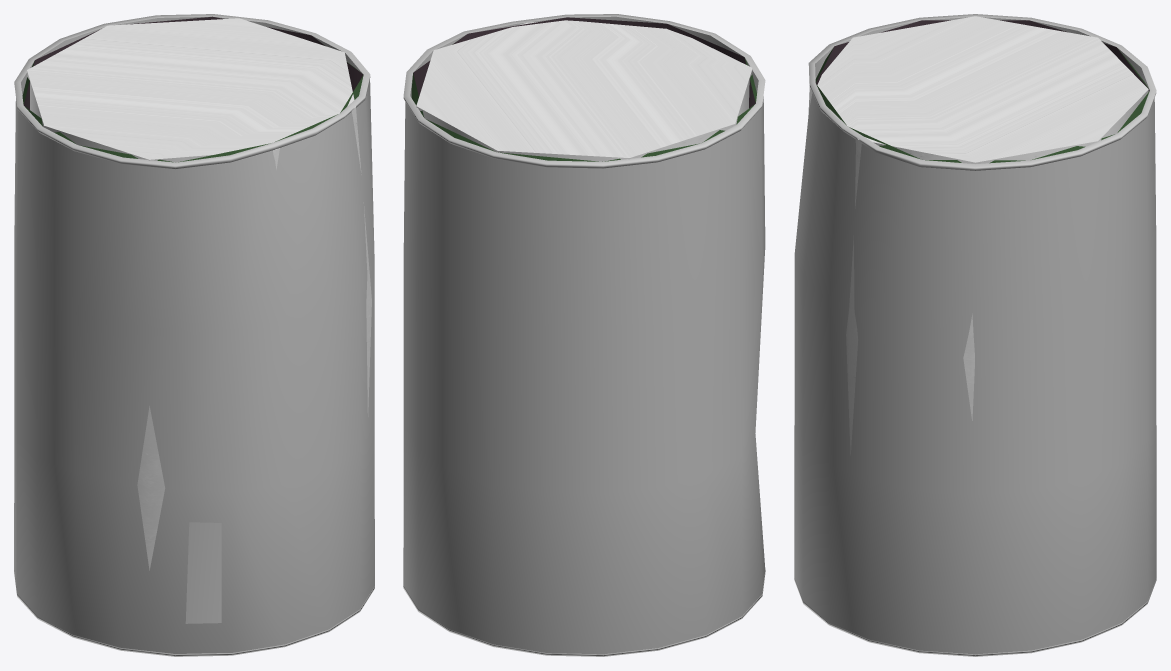
The model's file is si_drum_old_a.DAE.
3 renders of one model, left to right at view 1: azimuth 30°, elevation 25°; view 2: azimuth 150°, elevation 25°; view 3: azimuth 270°, elevation 25°, orthographic.
Parts seen in each view (by area): view 1: si_drum_old_a60, Colmesh-1, si_drum_old_a110, si_drum_old_a30; view 2: si_drum_old_a60, Colmesh-1, si_drum_old_a110, si_drum_old_a30; view 3: si_drum_old_a60, Colmesh-1, si_drum_old_a110, si_drum_old_a30.
Part boxes in pixels (x1,y1,x2,y2): si_drum_old_a60: (14,80,374,653); Colmesh-1: (27,18,371,570); si_drum_old_a110: (14,14,374,656); si_drum_old_a30: (22,16,363,162); si_drum_old_a60: (403,96,765,654); Colmesh-1: (416,20,752,161); si_drum_old_a110: (403,14,765,656); si_drum_old_a30: (411,17,756,161); si_drum_old_a60: (794,87,1156,654); Colmesh-1: (809,16,1148,455); si_drum_old_a110: (794,14,1156,656); si_drum_old_a30: (815,20,1149,163).
Size of the model in its own units: 58.83 by 58.62 by 88.6.
